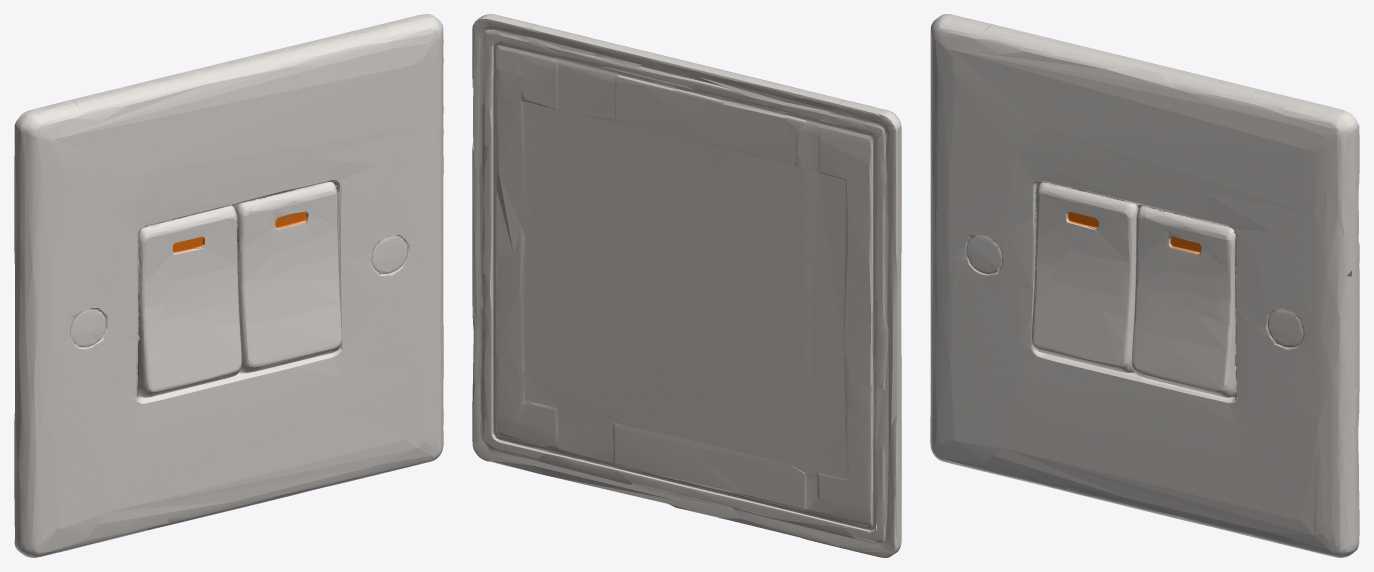
File: remeshed-switch-8000.glb
The picture shows the model from 3 angles, left to right: view 1: azimuth 30°, elevation 25°; view 2: azimuth 150°, elevation 25°; view 3: azimuth 330°, elevation 25°; orthographic projection.
Parts seen in each view (by area): view 1: output_unwrapped; view 2: output_unwrapped; view 3: output_unwrapped.
Part boxes in pixels (left/top/right/bottom): output_unwrapped: left=14, top=14, right=443, bottom=557; output_unwrapped: left=472, top=14, right=901, bottom=557; output_unwrapped: left=930, top=14, right=1359, bottom=557.
Bounding box in the file's own units: 1.9 × 1.9 × 0.1602.
Materials: 1 (1 with a texture image).
